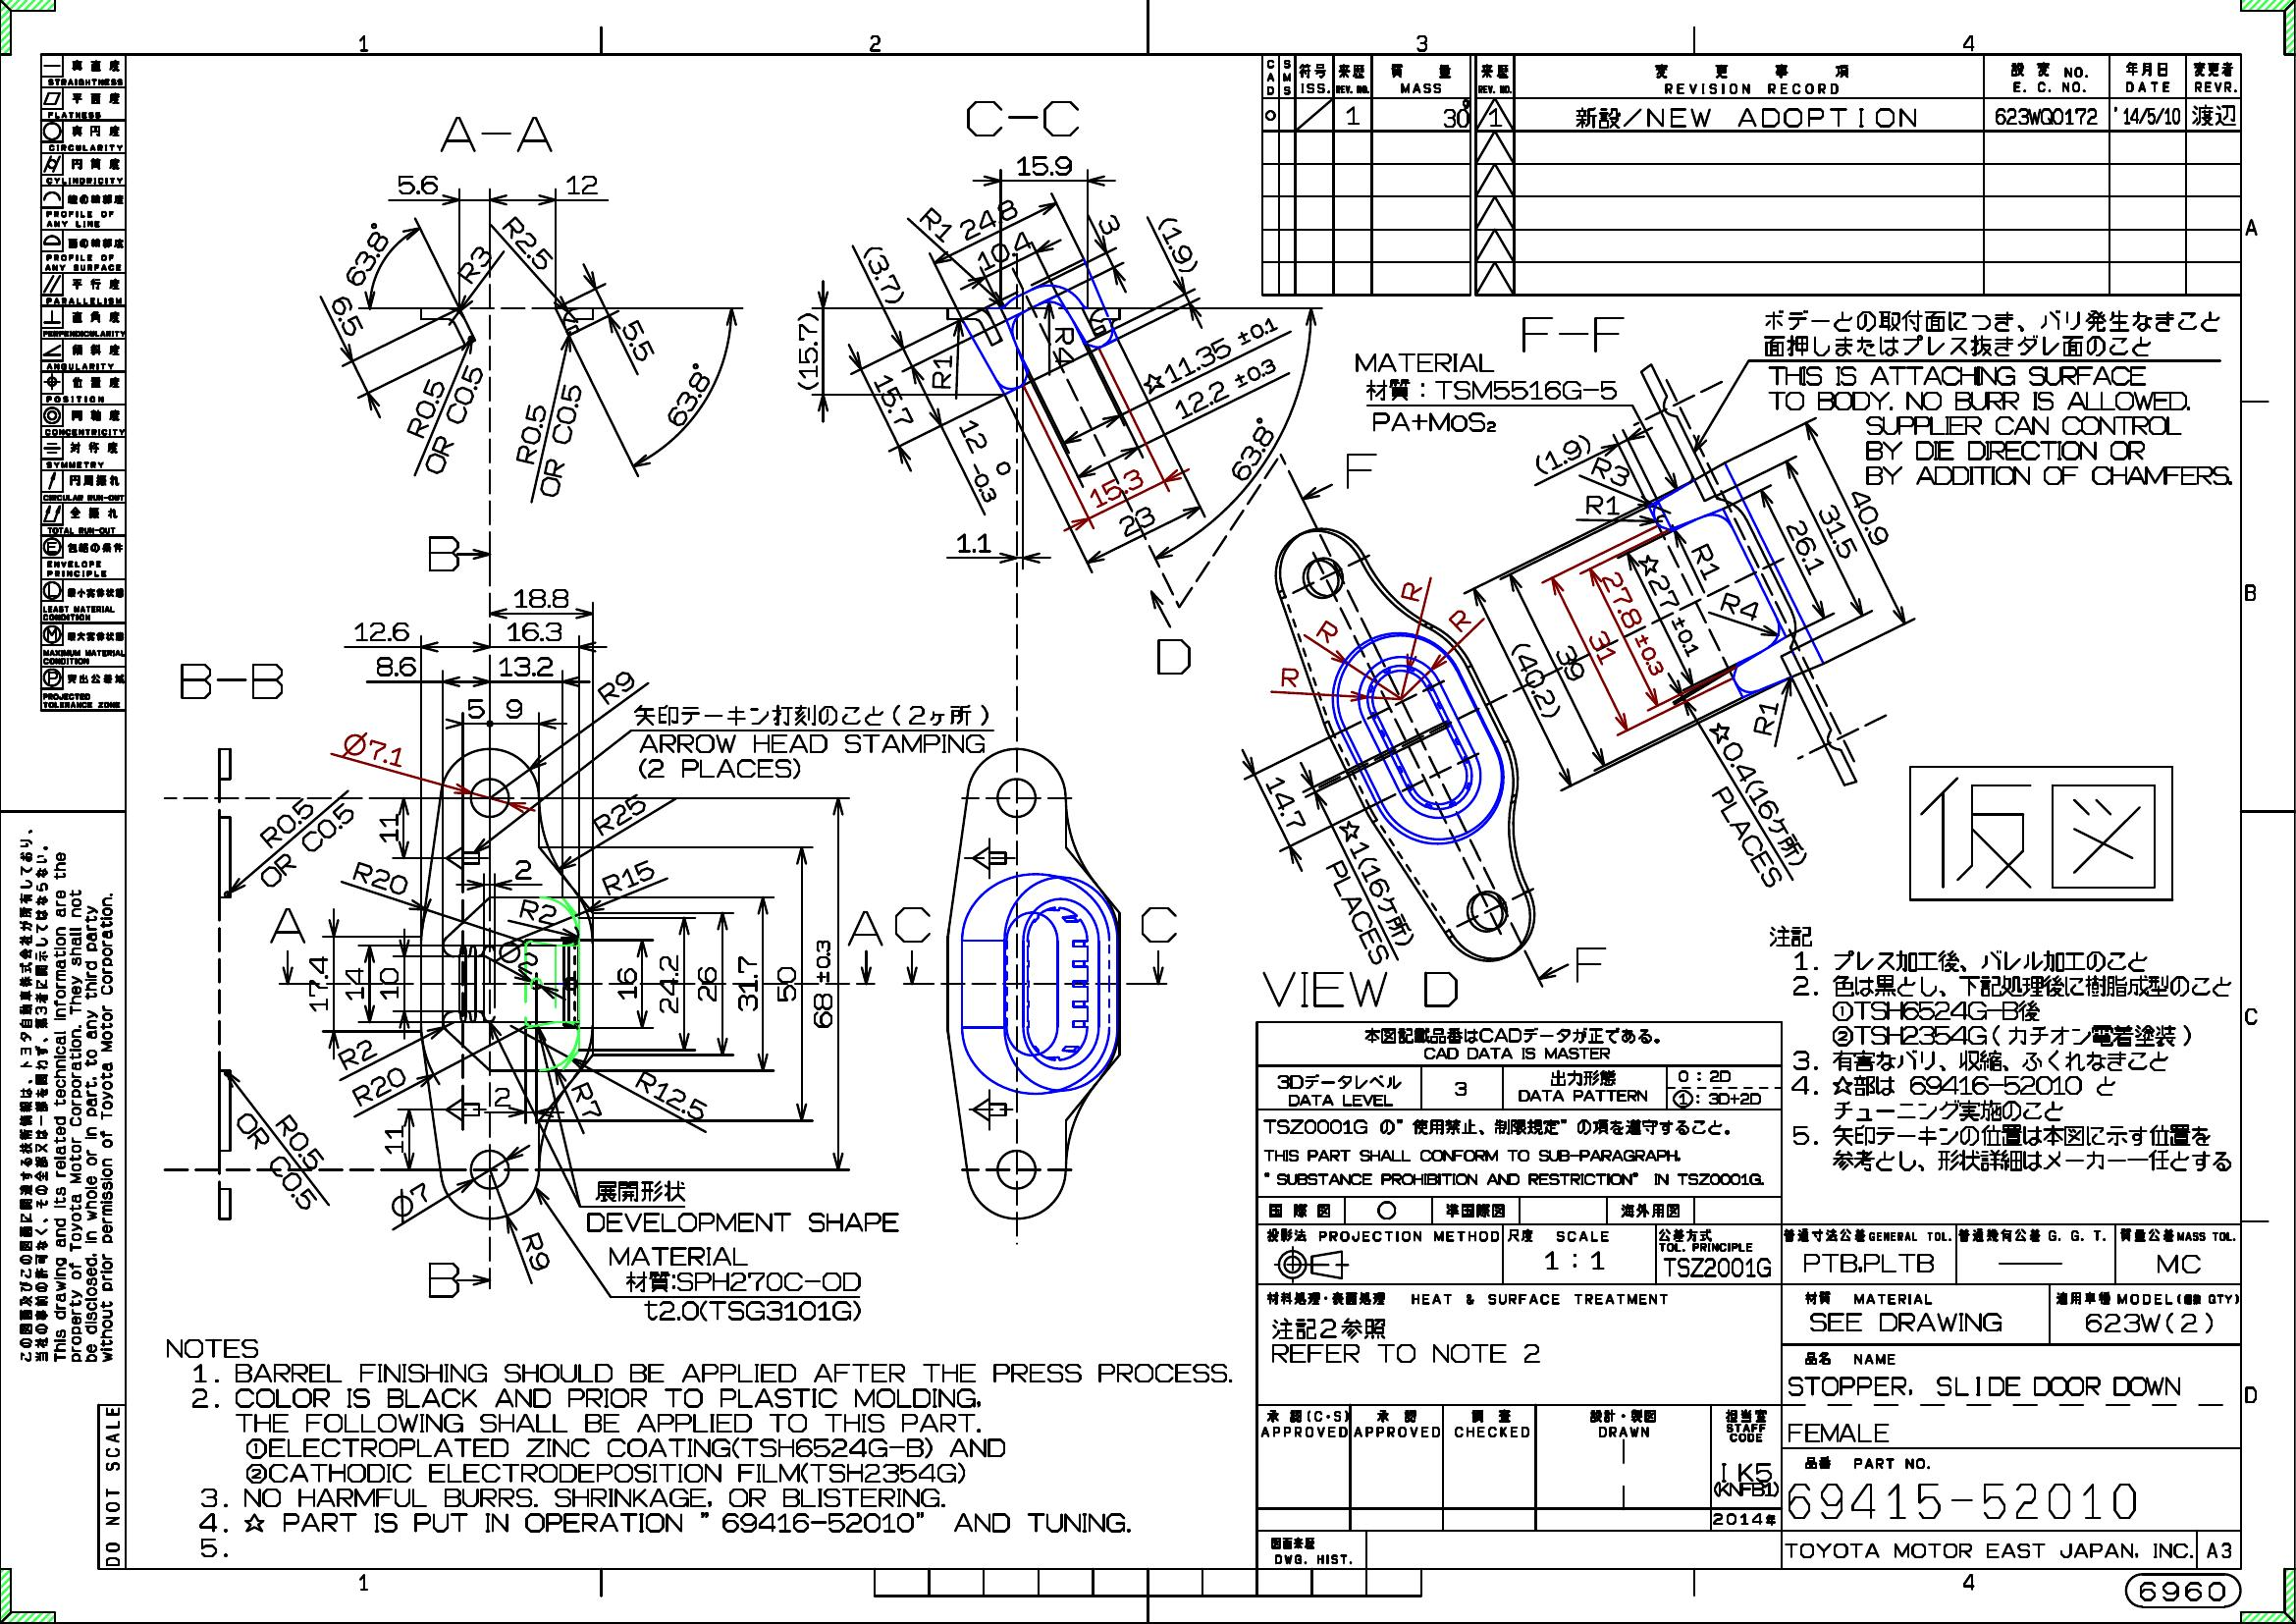anntotation_text: (162, 1334, 1237, 1561), (1765, 916, 2242, 1183), (9, 817, 121, 1374), (1899, 759, 2180, 909), (1758, 304, 2222, 359), (636, 733, 989, 784), (1351, 350, 1627, 402), (606, 1244, 868, 1294), (632, 701, 993, 729), (581, 1209, 903, 1237), (1258, 963, 1391, 1014), (436, 112, 560, 156), (176, 657, 286, 707), (641, 1299, 863, 1323), (2119, 1570, 2247, 1612), (963, 97, 1082, 141), (1516, 311, 1628, 357), (97, 1403, 125, 1570), (1296, 895, 1416, 926), (1685, 821, 1802, 852), (1727, 808, 1830, 840), (1372, 408, 1495, 434), (1335, 888, 1439, 917), (594, 1178, 689, 1204), (1133, 903, 1184, 946), (1151, 633, 1193, 680), (423, 531, 462, 580), (265, 905, 309, 947), (845, 907, 887, 949), (1418, 967, 1460, 1009), (1340, 446, 1379, 492), (892, 905, 931, 947), (1572, 939, 1606, 986), (423, 1260, 462, 1301)
dimension_text: (1137, 339, 1286, 366), (1655, 548, 1683, 664), (1620, 566, 1648, 680), (1170, 371, 1281, 399), (246, 833, 367, 858), (548, 381, 573, 499), (441, 360, 466, 478), (264, 1102, 288, 1220), (1521, 640, 1549, 722), (339, 733, 406, 766), (350, 221, 381, 288), (652, 381, 722, 411), (794, 311, 820, 390), (812, 933, 833, 1028), (632, 1083, 711, 1107), (1238, 415, 1267, 483), (1790, 513, 1820, 575), (1823, 497, 1852, 562), (1548, 420, 1574, 489), (871, 239, 898, 308), (1087, 473, 1147, 503), (1855, 487, 1883, 548), (351, 863, 411, 891), (956, 206, 1019, 232), (1699, 738, 1765, 763), (599, 861, 657, 889), (1272, 772, 1298, 833), (520, 401, 545, 466), (413, 374, 437, 439), (1145, 232, 1210, 257), (734, 953, 761, 1012), (274, 791, 299, 852), (306, 953, 330, 1014), (657, 953, 680, 1016), (288, 1111, 311, 1174), (973, 239, 1036, 262), (590, 801, 648, 826), (1015, 153, 1073, 178), (864, 387, 922, 411), (494, 942, 541, 972), (1725, 582, 1755, 627), (1692, 538, 1722, 584), (1112, 508, 1163, 534), (495, 232, 559, 253), (513, 585, 571, 608), (353, 620, 411, 643), (350, 1074, 408, 1097), (617, 325, 662, 353), (1588, 624, 1616, 670), (1556, 640, 1585, 685), (386, 1186, 432, 1213), (506, 620, 562, 642), (497, 656, 553, 677), (523, 1229, 548, 1274), (973, 459, 996, 508), (1588, 482, 1614, 524), (520, 898, 557, 928), (334, 294, 358, 337), (573, 1083, 599, 1121), (1599, 450, 1621, 494), (397, 172, 437, 197), (917, 211, 957, 236), (956, 422, 993, 448), (374, 654, 416, 677), (596, 675, 638, 698), (775, 963, 798, 1005), (1342, 817, 1365, 859), (1052, 323, 1075, 366), (462, 244, 487, 283), (337, 1042, 378, 1065), (615, 965, 639, 1002), (956, 531, 993, 555), (696, 963, 717, 1005), (931, 352, 954, 390), (1755, 698, 1776, 738), (564, 172, 599, 195), (378, 967, 401, 1002), (344, 967, 365, 1002), (381, 1123, 404, 1155), (1100, 207, 1123, 239), (378, 812, 401, 842), (466, 696, 487, 721), (492, 1084, 513, 1109), (504, 696, 523, 719), (513, 858, 532, 881), (993, 459, 1012, 478)
object: (1263, 520, 1539, 967), (404, 731, 604, 1236), (940, 742, 1128, 1229), (936, 265, 1124, 390), (211, 740, 239, 1225), (408, 292, 478, 360), (548, 283, 615, 337)
title_block: (1247, 1016, 2247, 1571), (1256, 49, 2243, 299), (37, 47, 130, 715)
